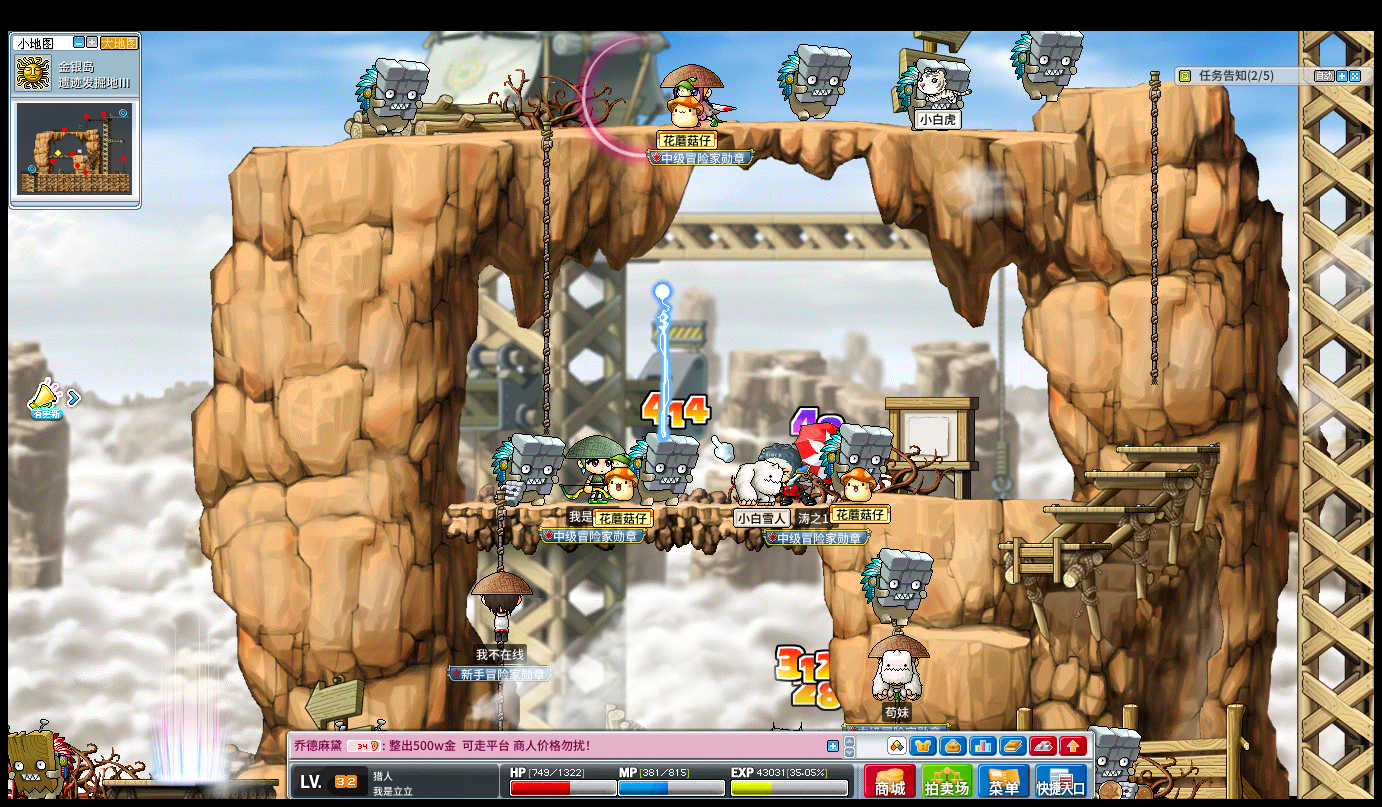floor: (224, 115, 1085, 152), (445, 499, 821, 512), (922, 625, 1030, 647), (898, 495, 1076, 506), (891, 494, 1084, 504), (1061, 80, 1181, 94), (1077, 469, 1191, 481), (1044, 504, 1155, 516), (1115, 442, 1221, 453), (997, 540, 1109, 550), (1046, 503, 1161, 512)
monster: (775, 41, 853, 125), (355, 56, 428, 137), (860, 547, 932, 626), (1010, 27, 1083, 103), (490, 432, 564, 506), (627, 432, 699, 505), (4, 724, 74, 798), (822, 423, 892, 479), (1090, 726, 1141, 793)
rope: (1146, 67, 1160, 390), (539, 120, 551, 435), (492, 497, 506, 571)
